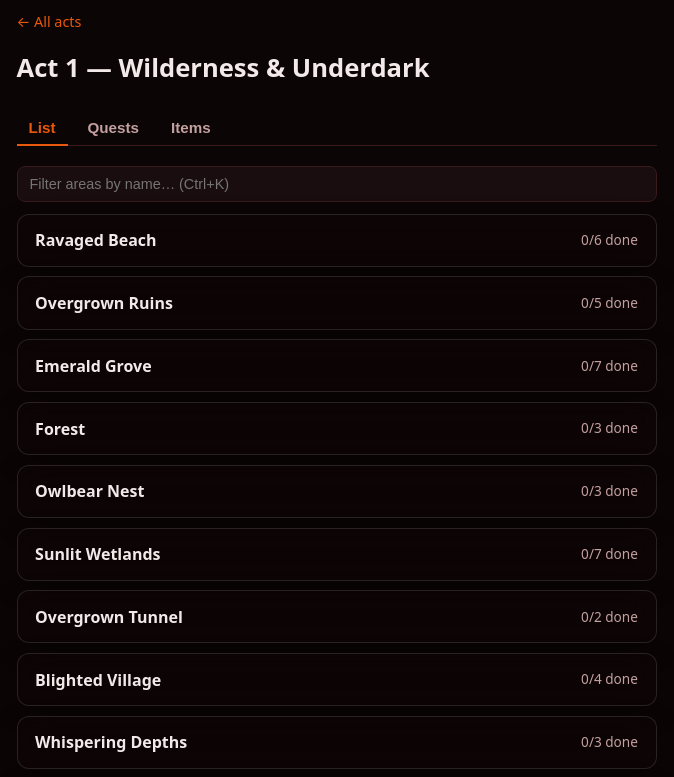
it: AreaListView › filters areas by the search input and highlights matches
Type a query that matches exactly one area.
In the field named "Filter areas by name": [336, 184] box 16,166 -> 656,202, type "Emerald"
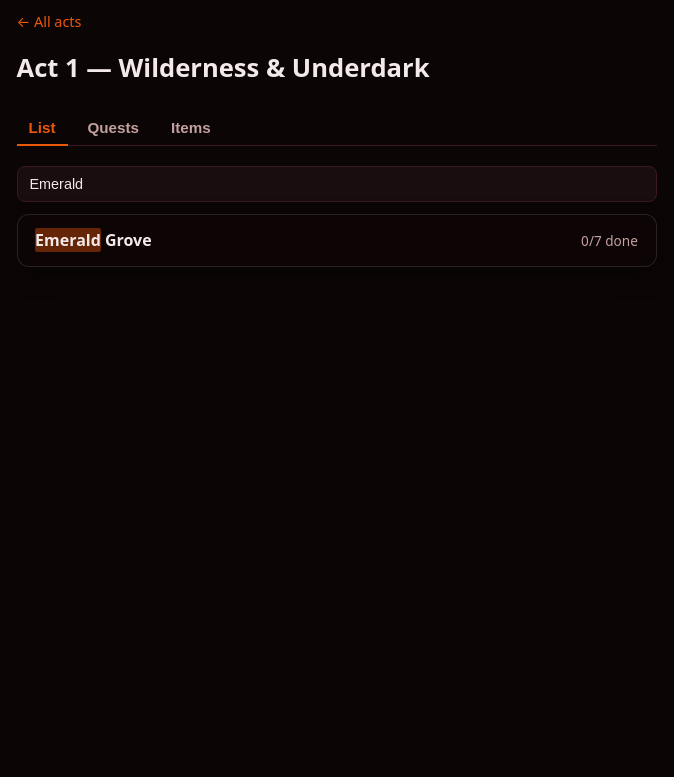
Expected: the text "Emerald Grove" is shown, 35,228 -> 152,252
Now the text "Ravaged Beach" is gone
